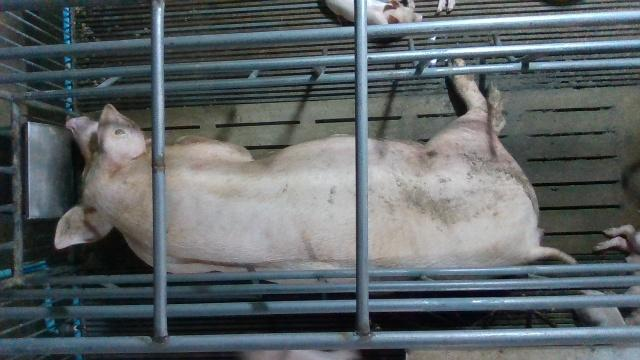piglet: (592, 225, 640, 326), (325, 0, 422, 25)
sow-sleep: (52, 57, 578, 285)
